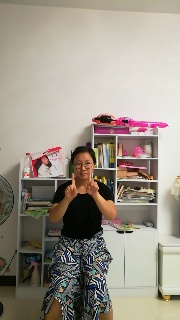hand: (64, 173, 77, 199), (86, 170, 98, 194)
